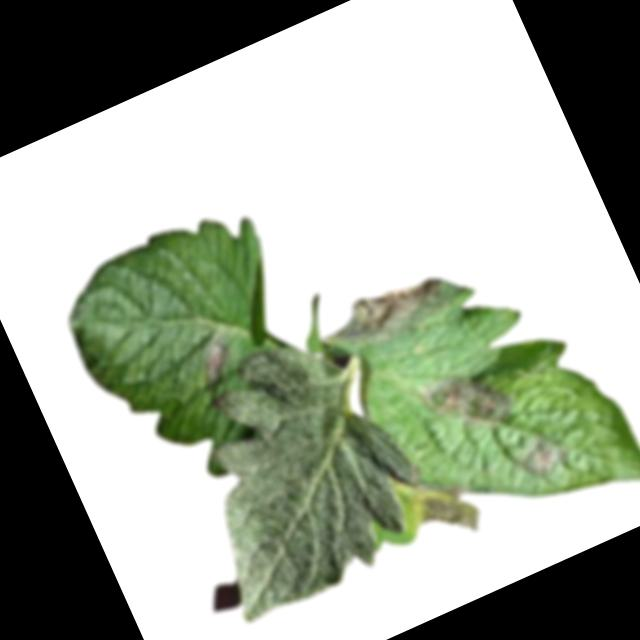Late_blight: (316, 258, 469, 364), (409, 348, 517, 451), (397, 455, 485, 552), (509, 424, 579, 486), (196, 334, 242, 383)
